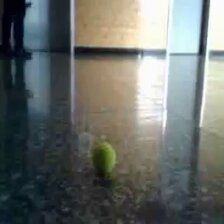tennis: (90, 143, 117, 174)
